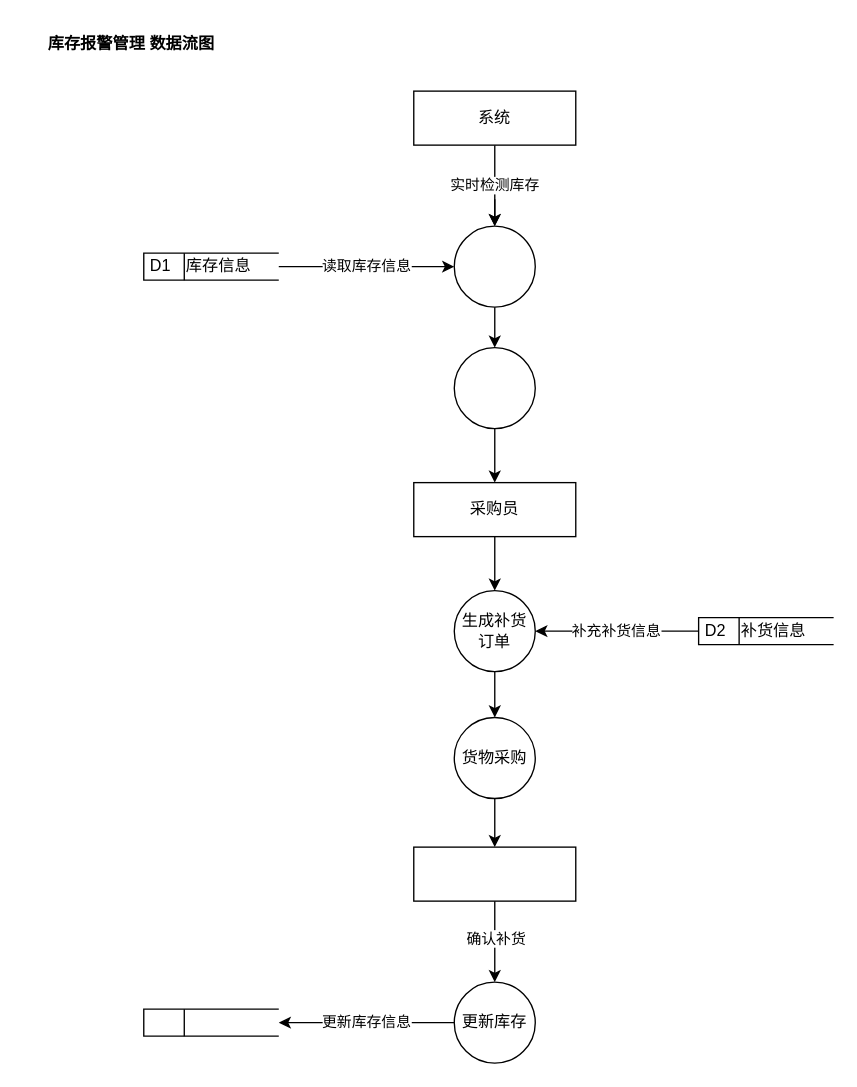
This 857x1087 diagram has some shape labels left out. The centre of each missing label's shape, as x and y in pixels:
D3 库存更新: point 210,1022
仓库管理员: point 494,873
库存报警: point 494,387
检测库存低于阈值: point 494,266
